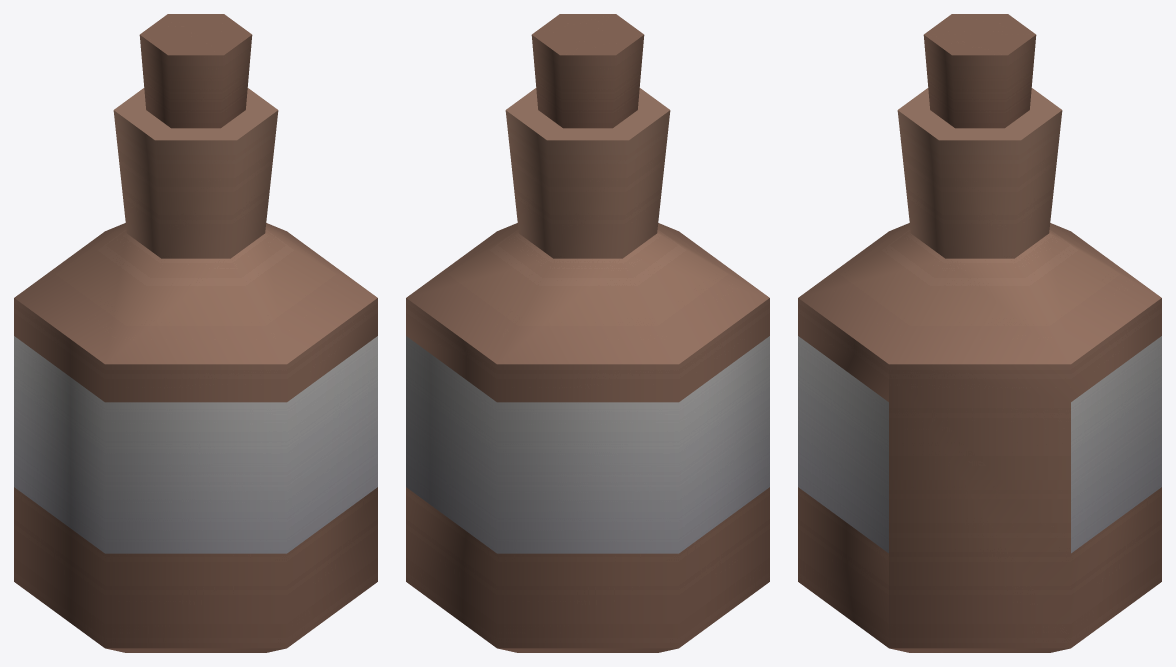
File: bottle.glb
3 renders of one model, left to right at view 1: azimuth 30°, elevation 25°; view 2: azimuth 150°, elevation 25°; view 3: azimuth 270°, elevation 25°, orthographic.
Visible parts, largest first — view 1: bottle-large; view 2: bottle-large; view 3: bottle-large.
Part boxes in pixels (bbox=[...]): bottle-large: bbox=[14, 14, 377, 652]; bottle-large: bbox=[406, 14, 769, 652]; bottle-large: bbox=[798, 14, 1161, 652].
Bounding box in the file's own units: 0.192 × 0.3813 × 0.2217.
1 material, 1 textured.
